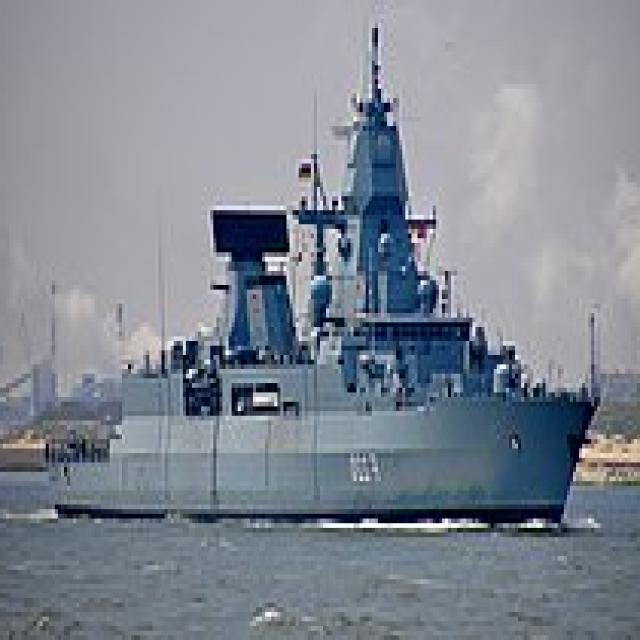Warship: (46, 19, 606, 523)
